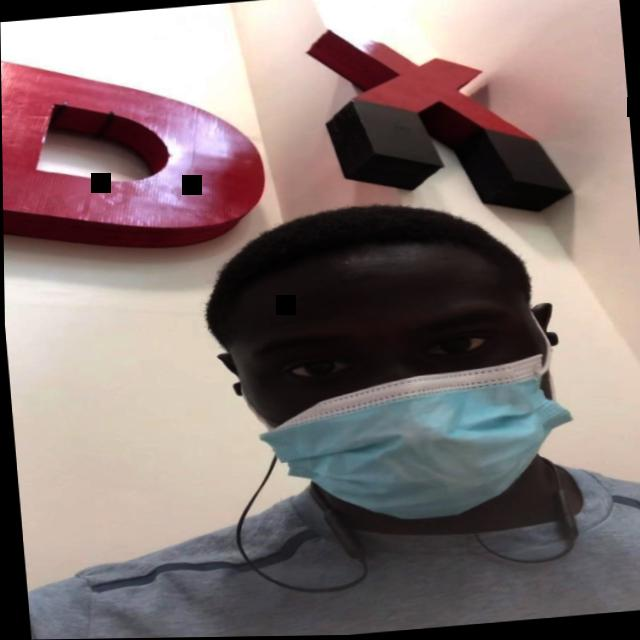Mask: (221, 262, 579, 536)
